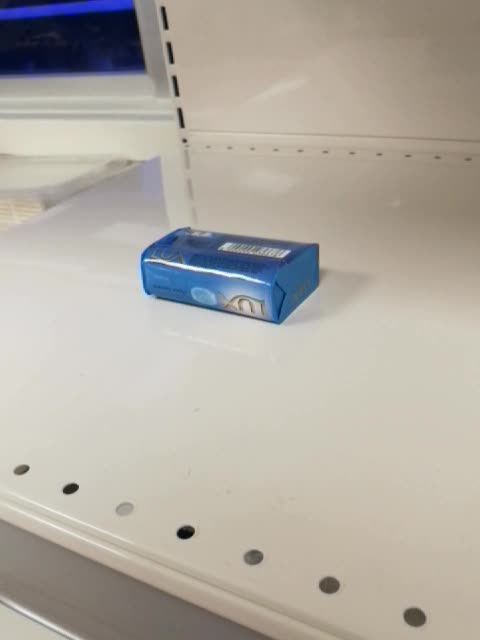soap: (137, 226, 323, 328)
